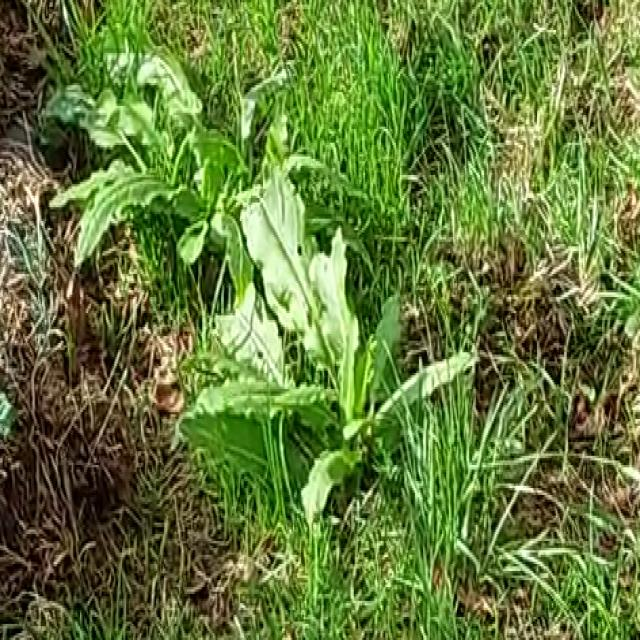organic waste: (153, 157, 414, 486), (59, 6, 282, 302)
